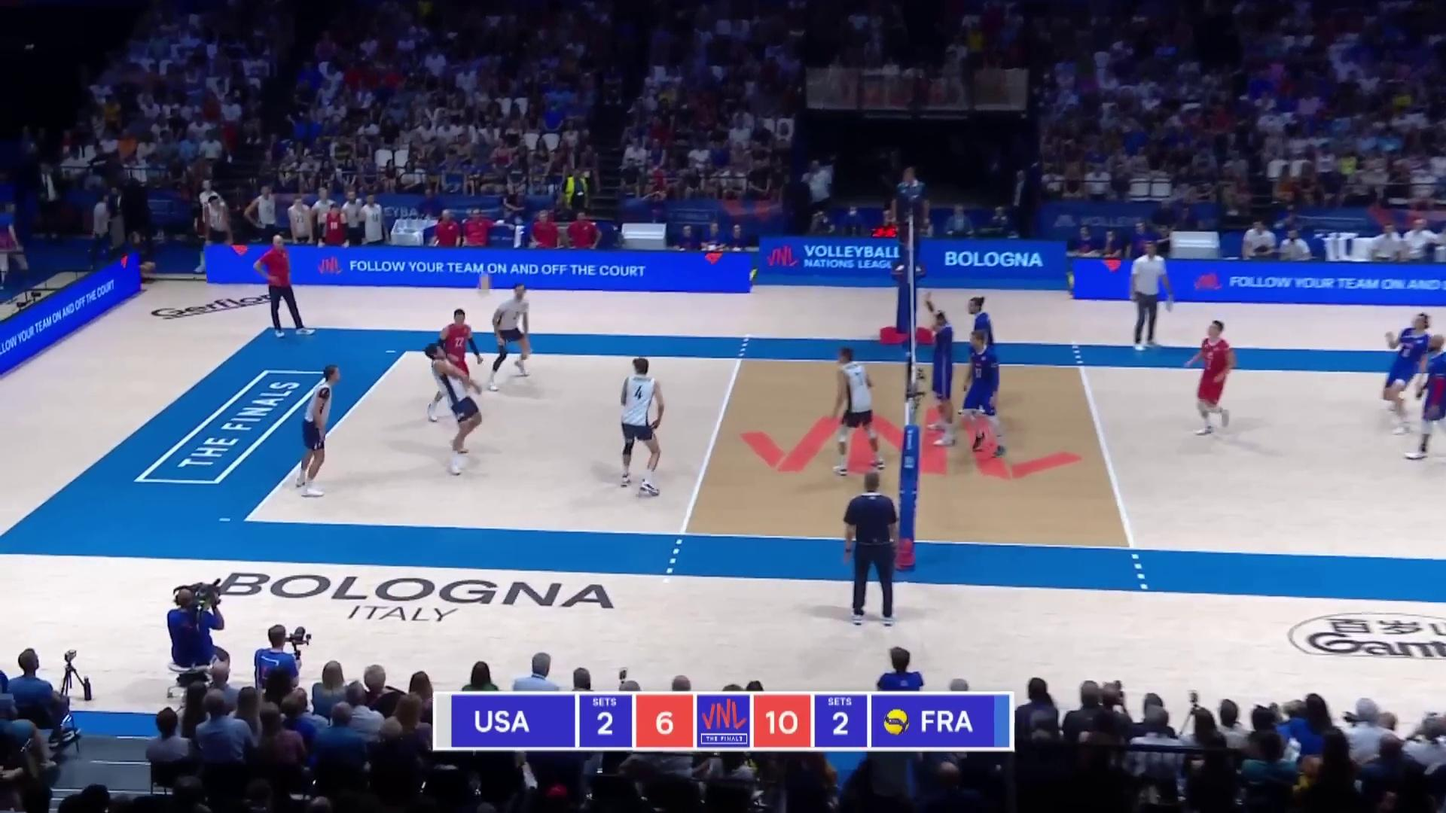player: (424, 343, 484, 479), (826, 347, 887, 473), (615, 356, 668, 498), (293, 365, 341, 497), (429, 309, 483, 424), (1383, 313, 1433, 431), (960, 331, 1005, 456), (1190, 320, 1232, 436), (1409, 333, 1446, 464), (963, 297, 1000, 424), (489, 284, 530, 386), (928, 308, 957, 444)
refree: (840, 474, 899, 626), (896, 171, 933, 276)
